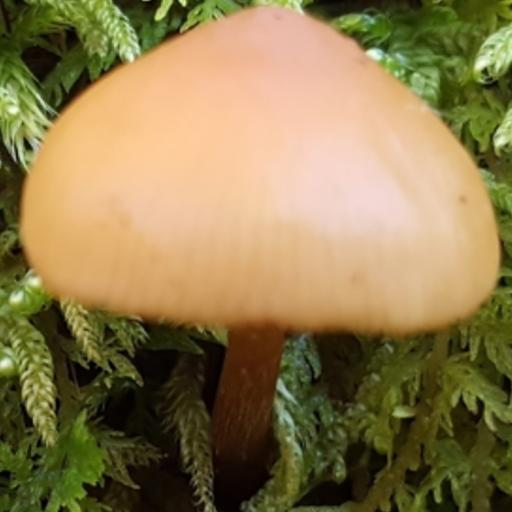mushroom: (21, 5, 505, 378)
